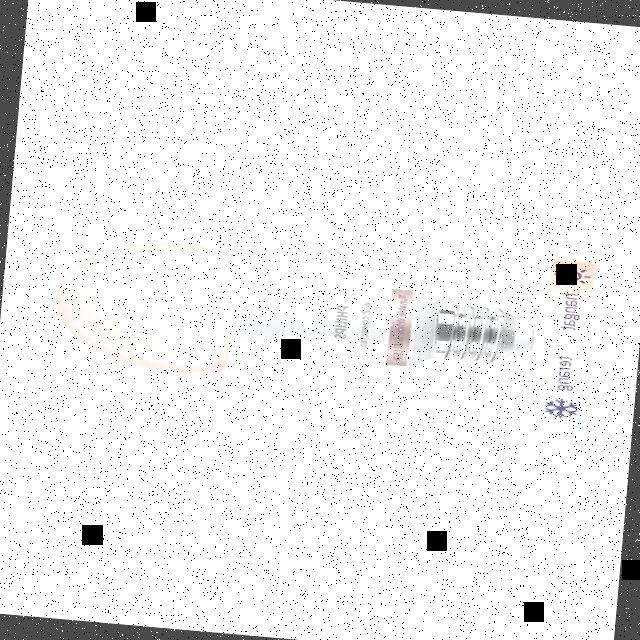light_bulb: (17, 210, 547, 422)
